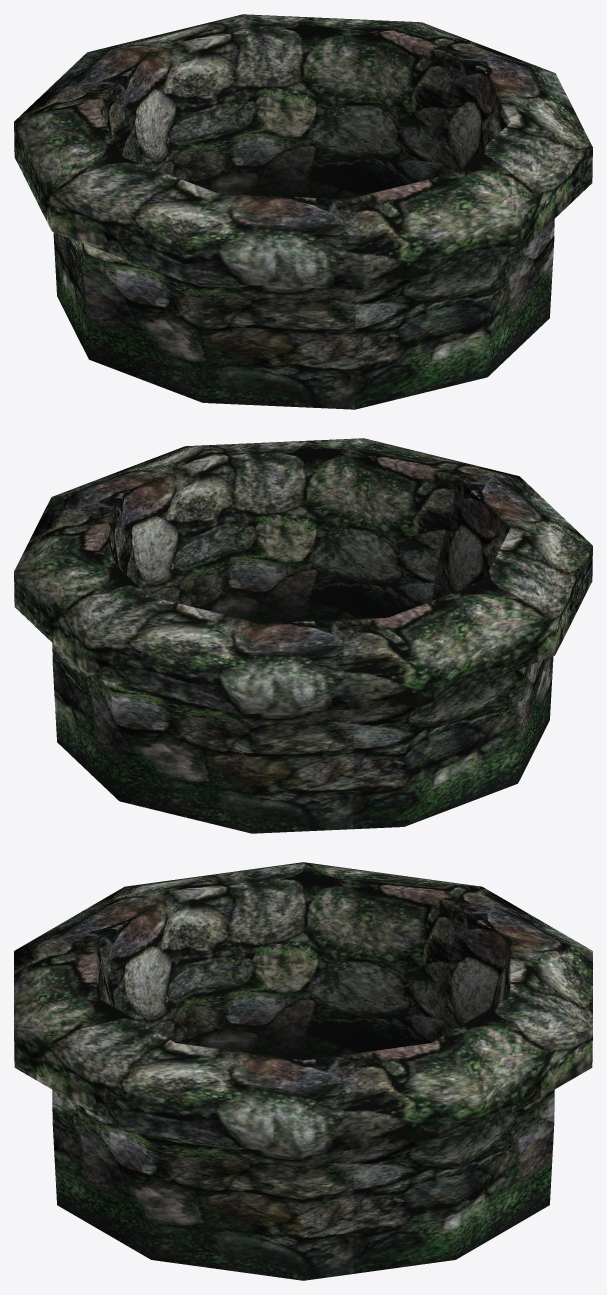
Rendered from st_well1.glb.
3 views of the same model, one above another, from view 1: azimuth 30°, elevation 25°; view 2: azimuth 150°, elevation 25°; view 3: azimuth 270°, elevation 25° (orthographic). The views are drawn at different scales.
Parts seen in each view (by area): view 1: st_well1; view 2: st_well1; view 3: st_well1.
Part boxes in pixels (box(x1,y1,x2,y2)): st_well1: box(14, 14, 592, 409); st_well1: box(14, 438, 592, 833); st_well1: box(14, 862, 592, 1280).
Size of the model in its own units: 1.96 by 0.7213 by 1.87.
3 materials, 3 textured.
